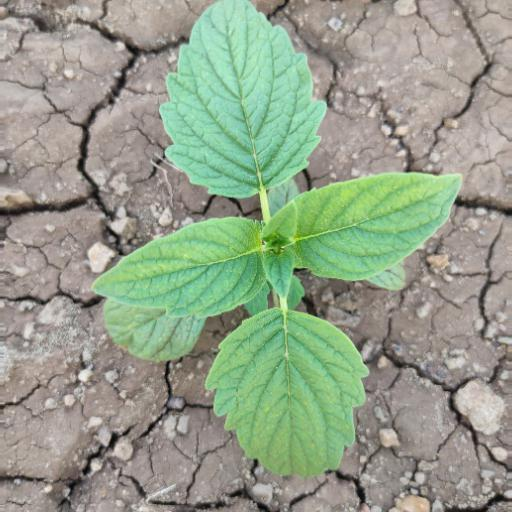crop: (92, 13, 466, 473)
